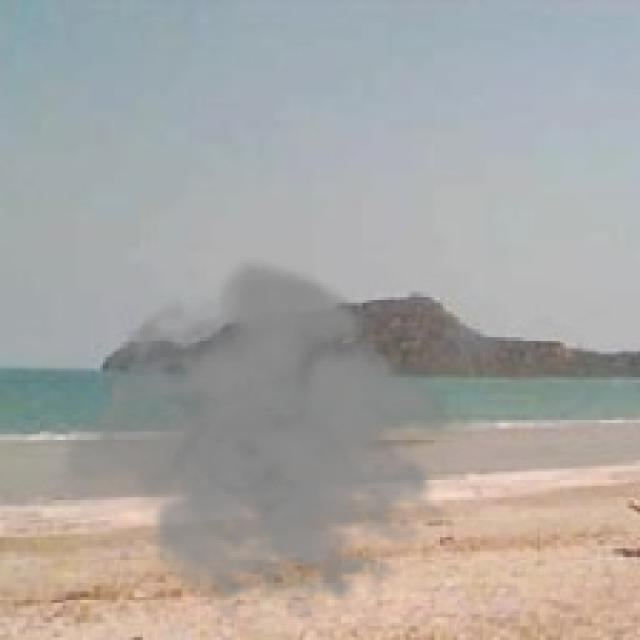smoke: (54, 257, 472, 623)
